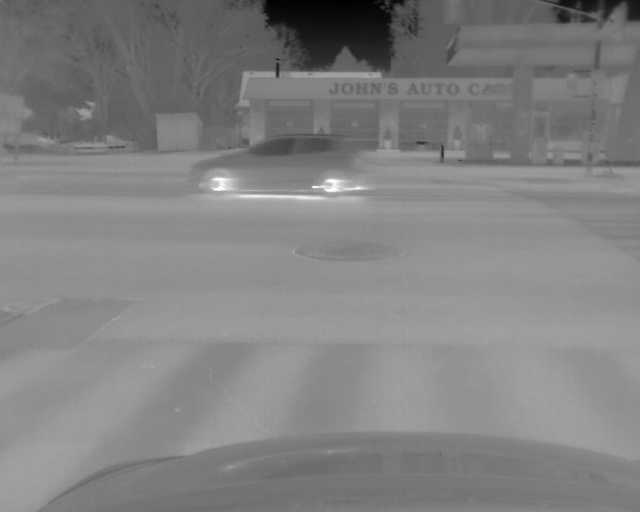car: (190, 133, 359, 196)
